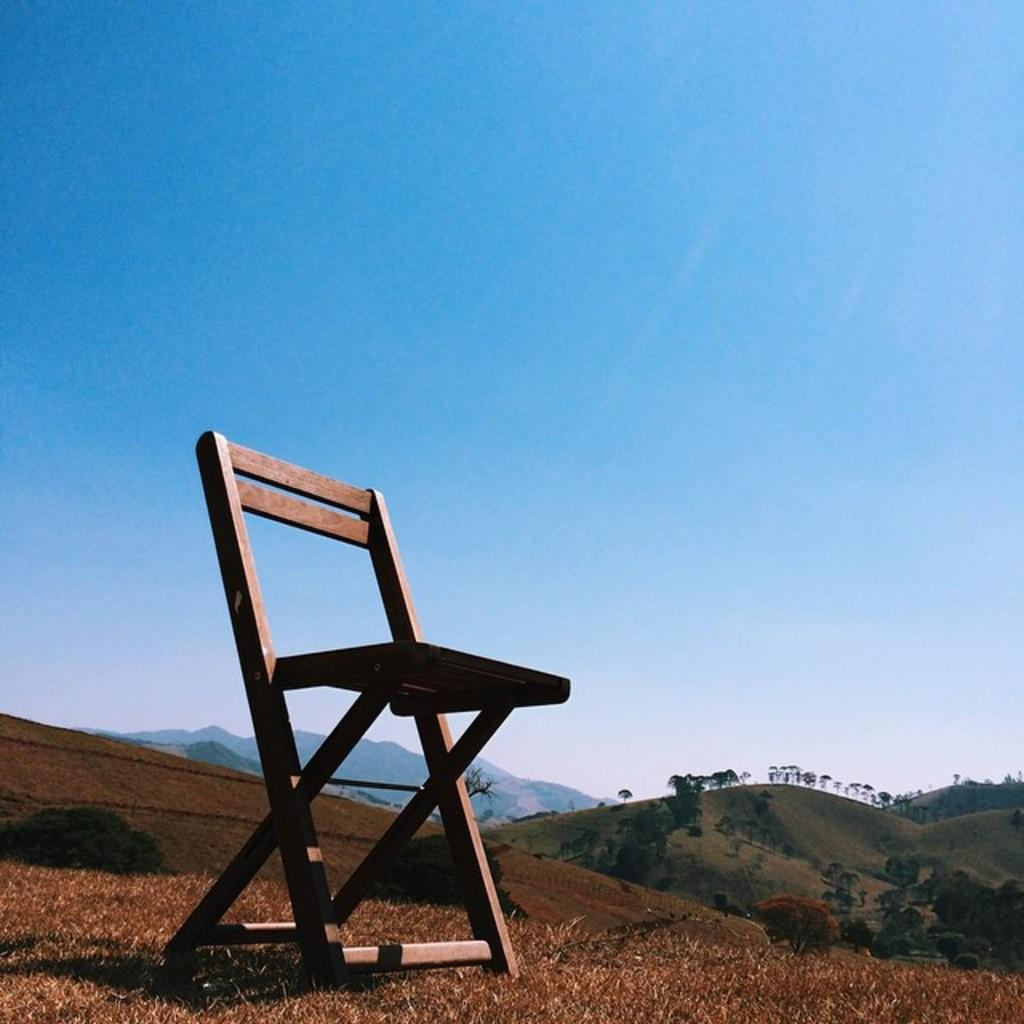Chair: (158, 410, 584, 994)
